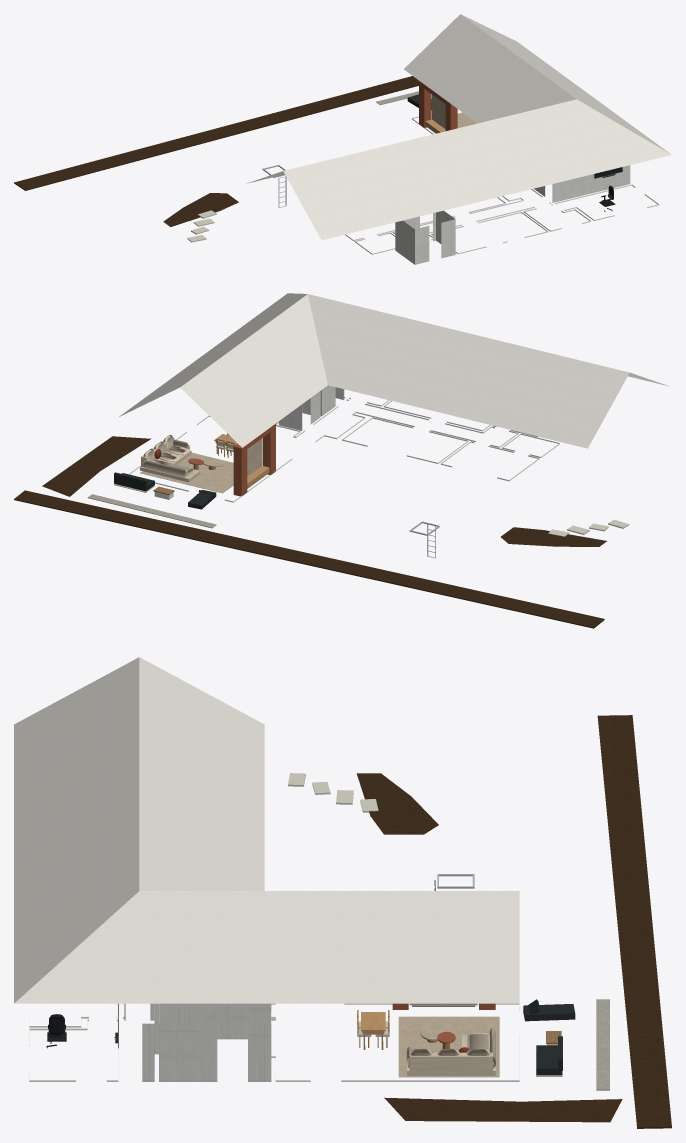
File: dom-interior-04.glb
The picture shows the model from 3 angles, top to bottom: view 1: azimuth 30°, elevation 25°; view 2: azimuth 150°, elevation 25°; view 3: azimuth 270°, elevation 25°; orthographic projection. The views are drawn at different scales.
Parts seen in each view (by area): view 1: DOM_01416 | Súvislý podhľad strešnej roviny · MAIN_FRONT, DOM_01418 | Súvislý podhľad strešnej roviny · WING_INNER, DOM_01621 | Zadná hranica · zapustený mulčovací pás, DOM_01419 | Súvislý podhľad strešnej roviny · WING_OUTER, DOM_01750 | Mulčovaný trvalkový záhon 1 · ilustračný koncept, DOM_01381 | 1.05 · keramický obklad v. 2 100 juh 1, DOM_01410 | 1.11 · keramický obklad v. 2 100 západ 1, DOM_01386 | 1.05 · keramický obklad v. 2 100 juh 1, DOM_01407 | 1.11 · keramický obklad v. 2 100 juh 2, DOM_01406 | 1.11 · keramický obklad v. 2 100 juh 1, DOM_01229 | LIVING-103-TV-WALL · vysoká bezúchytková skriňa , DOM_01232 | LIVING-103-TV-WALL · veľkoformátový greige kamen; view 2: DOM_01417 | Súvislý podhľad strešnej roviny · MAIN_GARDEN, DOM_01418 | Súvislý podhľad strešnej roviny · WING_INNER, DOM_01621 | Zadná hranica · zapustený mulčovací pás, DOM_01419 | Súvislý podhľad strešnej roviny · WING_OUTER, DOM_01751 | Mulčovaný trvalkový záhon 2 · ilustračný koncept, DOM_01241 | LIVING-103-SOFA-L · ručne tkaný greige koberec, DOM_01750 | Mulčovaný trvalkový záhon 1 · ilustračný koncept, DOM_01229 | LIVING-103-TV-WALL · vysoká bezúchytková skriňa , DOM_01745 | Kačírek · severný štít, DOM_01226 | LIVING-103-TV-WALL · vysoká bezúchytková skriňa ; view 3: DOM_01419 | Súvislý podhľad strešnej roviny · WING_OUTER, DOM_01416 | Súvislý podhľad strešnej roviny · MAIN_FRONT, DOM_01417 | Súvislý podhľad strešnej roviny · MAIN_GARDEN, DOM_01621 | Zadná hranica · zapustený mulčovací pás, DOM_01751 | Mulčovaný trvalkový záhon 2 · ilustračný koncept, DOM_01241 | LIVING-103-SOFA-L · ručne tkaný greige koberec, DOM_01750 | Mulčovaný trvalkový záhon 1 · ilustračný koncept, DOM_01403 | 1.07 · keramický obklad v. 2 100 východ 1, DOM_01395 | 1.07 · keramický obklad v. 2 100 západ 1, DOM_01244 | LIVING-103-SOFA-L · mäkké chrbtové jadro, DOM_01400 | 1.07 · keramický obklad v. 2 100 východ 2, DOM_01745 | Kačírek · severný štít (+5 smaller).
Boxes of the visible parts, x1,y1,x2,y2 form: DOM_01416 | Súvislý podhľad strešnej roviny · MAIN_FRONT: [283, 99, 671, 240]; DOM_01418 | Súvislý podhľad strešnej roviny · WING_INNER: [404, 14, 576, 123]; DOM_01621 | Zadná hranica · zapustený mulčovací pás: [14, 76, 418, 190]; DOM_01419 | Súvislý podhľad strešnej roviny · WING_OUTER: [461, 14, 670, 153]; DOM_01750 | Mulčovaný trvalkový záhon 1 · ilustračný koncept: [163, 193, 238, 226]; DOM_01381 | 1.05 · keramický obklad v. 2 100 juh 1: [553, 174, 595, 202]; DOM_01410 | 1.11 · keramický obklad v. 2 100 západ 1: [395, 220, 414, 264]; DOM_01386 | 1.05 · keramický obklad v. 2 100 juh 1: [595, 165, 630, 192]; DOM_01407 | 1.11 · keramický obklad v. 2 100 juh 2: [441, 219, 455, 258]; DOM_01406 | 1.11 · keramický obklad v. 2 100 juh 1: [414, 226, 429, 264]; DOM_01229 | LIVING-103-TV-WALL · vysoká bezúchytková skriňa : [419, 81, 431, 127]; DOM_01232 | LIVING-103-TV-WALL · veľkoformátový greige kamen: [431, 94, 445, 128]; DOM_01417 | Súvislý podhľad strešnej roviny · MAIN_GARDEN: [308, 294, 629, 448]; DOM_01418 | Súvislý podhľad strešnej roviny · WING_INNER: [180, 294, 327, 447]; DOM_01621 | Zadná hranica · zapustený mulčovací pás: [14, 490, 604, 628]; DOM_01419 | Súvislý podhľad strešnej roviny · WING_OUTER: [119, 293, 307, 416]; DOM_01751 | Mulčovaný trvalkový záhon 2 · ilustračný koncept: [42, 436, 151, 496]; DOM_01241 | LIVING-103-SOFA-L · ručne tkaný greige koberec: [140, 452, 233, 493]; DOM_01750 | Mulčovaný trvalkový záhon 1 · ilustračný koncept: [501, 527, 606, 546]; DOM_01229 | LIVING-103-TV-WALL · vysoká bezúchytková skriňa : [233, 443, 247, 496]; DOM_01745 | Kačírek · severný štít: [87, 494, 216, 528]; DOM_01226 | LIVING-103-TV-WALL · vysoká bezúchytková skriňa : [263, 423, 275, 474]; DOM_01419 | Súvislý podhľad strešnej roviny · WING_OUTER: [14, 891, 519, 1003]; DOM_01416 | Súvislý podhľad strešnej roviny · MAIN_FRONT: [14, 657, 139, 1003]; DOM_01417 | Súvislý podhľad strešnej roviny · MAIN_GARDEN: [139, 657, 264, 890]; DOM_01621 | Zadná hranica · zapustený mulčovací pás: [597, 715, 671, 1128]; DOM_01751 | Mulčovaný trvalkový záhon 2 · ilustračný koncept: [384, 1097, 622, 1122]; DOM_01241 | LIVING-103-SOFA-L · ručne tkaný greige koberec: [398, 1016, 499, 1077]; DOM_01750 | Mulčovaný trvalkový záhon 1 · ilustračný koncept: [356, 773, 438, 834]; DOM_01403 | 1.07 · keramický obklad v. 2 100 východ 1: [159, 1023, 200, 1081]; DOM_01395 | 1.07 · keramický obklad v. 2 100 západ 1: [201, 1003, 249, 1039]; DOM_01244 | LIVING-103-SOFA-L · mäkké chrbtové jadro: [409, 1052, 492, 1071]; DOM_01400 | 1.07 · keramický obklad v. 2 100 východ 2: [248, 1023, 271, 1081]; DOM_01745 | Kačírek · severný štít: [596, 999, 609, 1090].
Bounding box in the file's own units: 31.9 × 7.33 × 21.51.
Materials: 24 (11 with a texture image).
